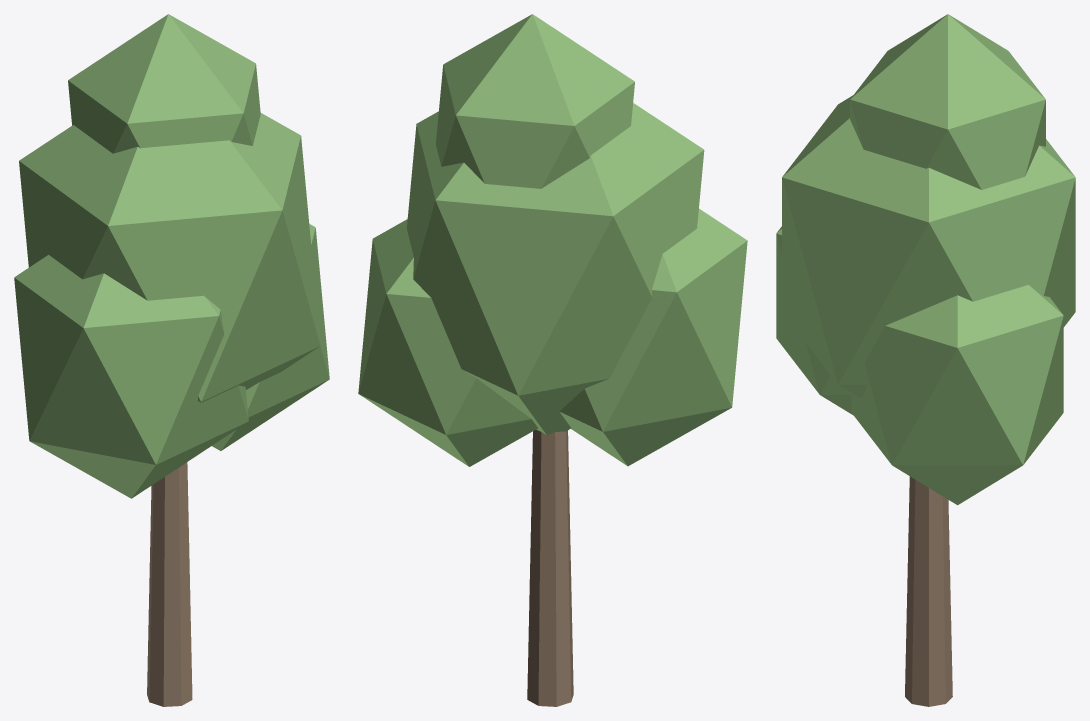
File: tree_poplar.glb
3 views of the same model, side by side, from view 1: azimuth 30°, elevation 25°; view 2: azimuth 150°, elevation 25°; view 3: azimuth 270°, elevation 25° (orthographic). The views are drawn at different scales.
Parts seen in each view (by area): view 1: TreePoplar; view 2: TreePoplar; view 3: TreePoplar.
Boxes of the visible parts, bbox=[...] form: TreePoplar: bbox=[14, 14, 329, 706]; TreePoplar: bbox=[358, 14, 747, 706]; TreePoplar: bbox=[776, 14, 1075, 706].
Bounding box in the file's own units: 3.91 × 7.9 × 3.12.
